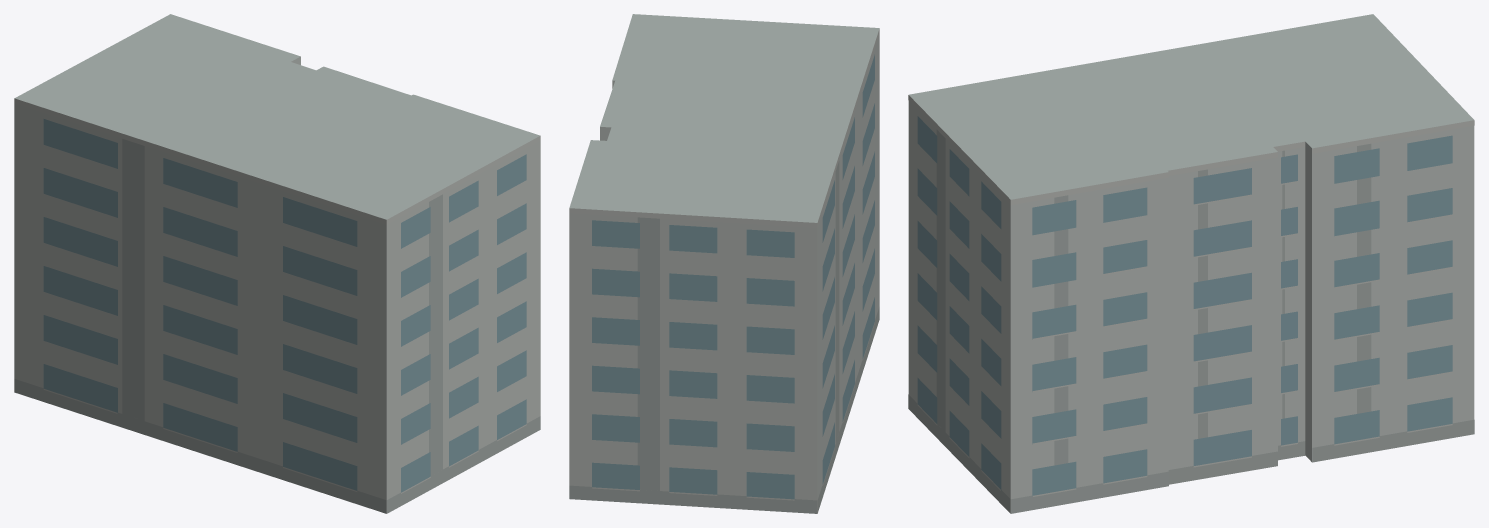
File: survey-upis-32859640.glb
The picture shows the model from 3 angles, left to right: view 1: azimuth 30°, elevation 25°; view 2: azimuth 150°, elevation 25°; view 3: azimuth 270°, elevation 25°; orthographic projection. The views are drawn at different scales.
Visible parts, largest first — view 1: survey-upis-32859640.tmp; view 2: survey-upis-32859640.tmp; view 3: survey-upis-32859640.tmp.
Part boxes in pixels (x1=…): survey-upis-32859640.tmp: x1=14, y1=14, x2=540, y2=513; survey-upis-32859640.tmp: x1=569, y1=14, x2=879, y2=513; survey-upis-32859640.tmp: x1=908, y1=14, x2=1474, y2=513.
Size of the model in its own units: 17.51 by 13.8 by 22.55.
